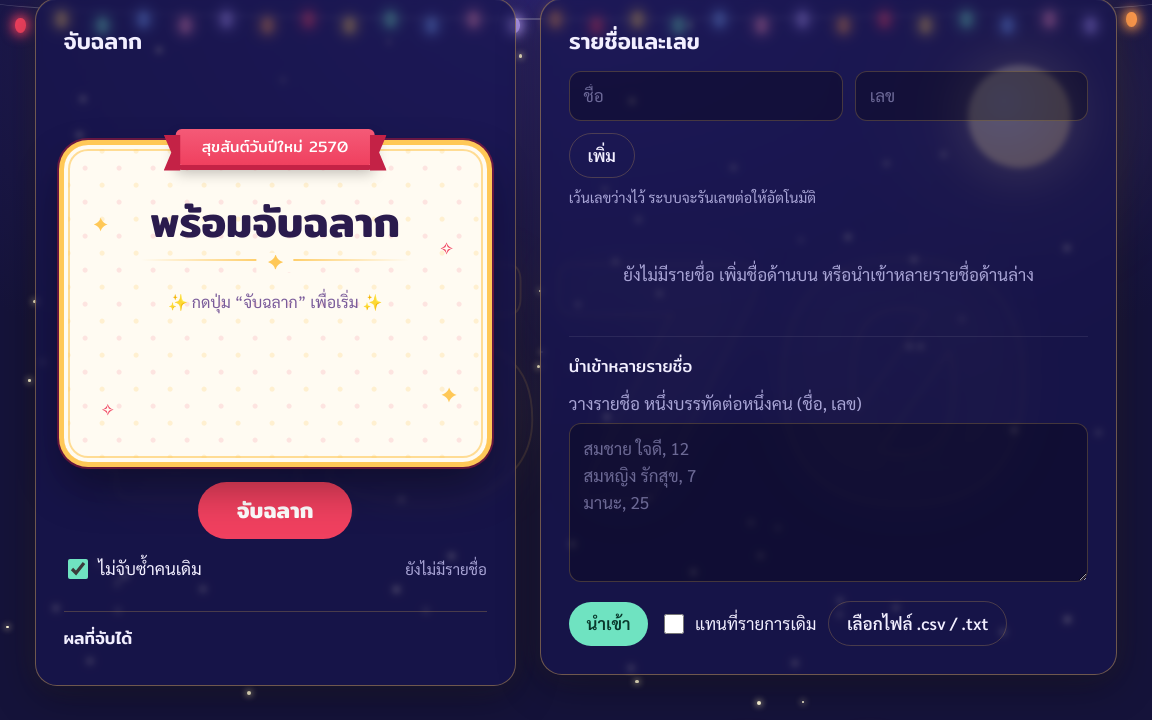
จับฉลาก › ไม่มีรายชื่อ: แจ้งให้นำเข้าก่อน
(page scrolled)
Click the button "จับฉลาก" at (275, 510), box [198,482,352,539]
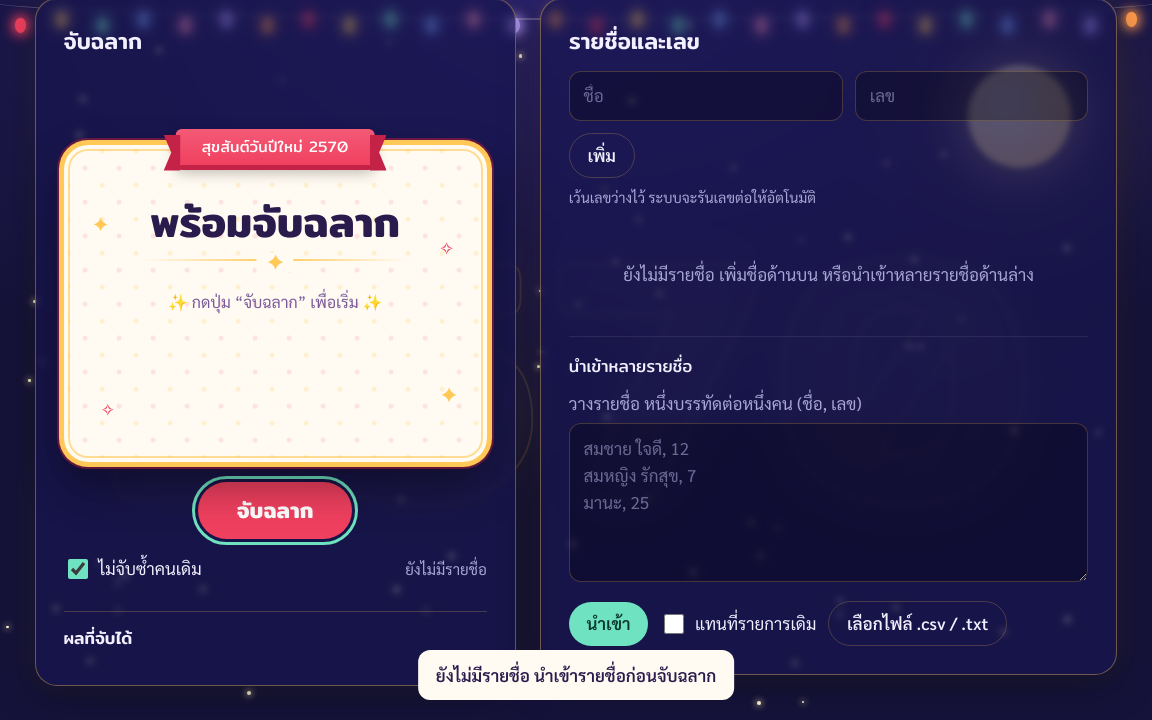
Expected: the text "ยังไม่มีรายชื่อ นำเข้ารายชื่อก่อนจับฉลาก" is shown, [418,650,734,700]
